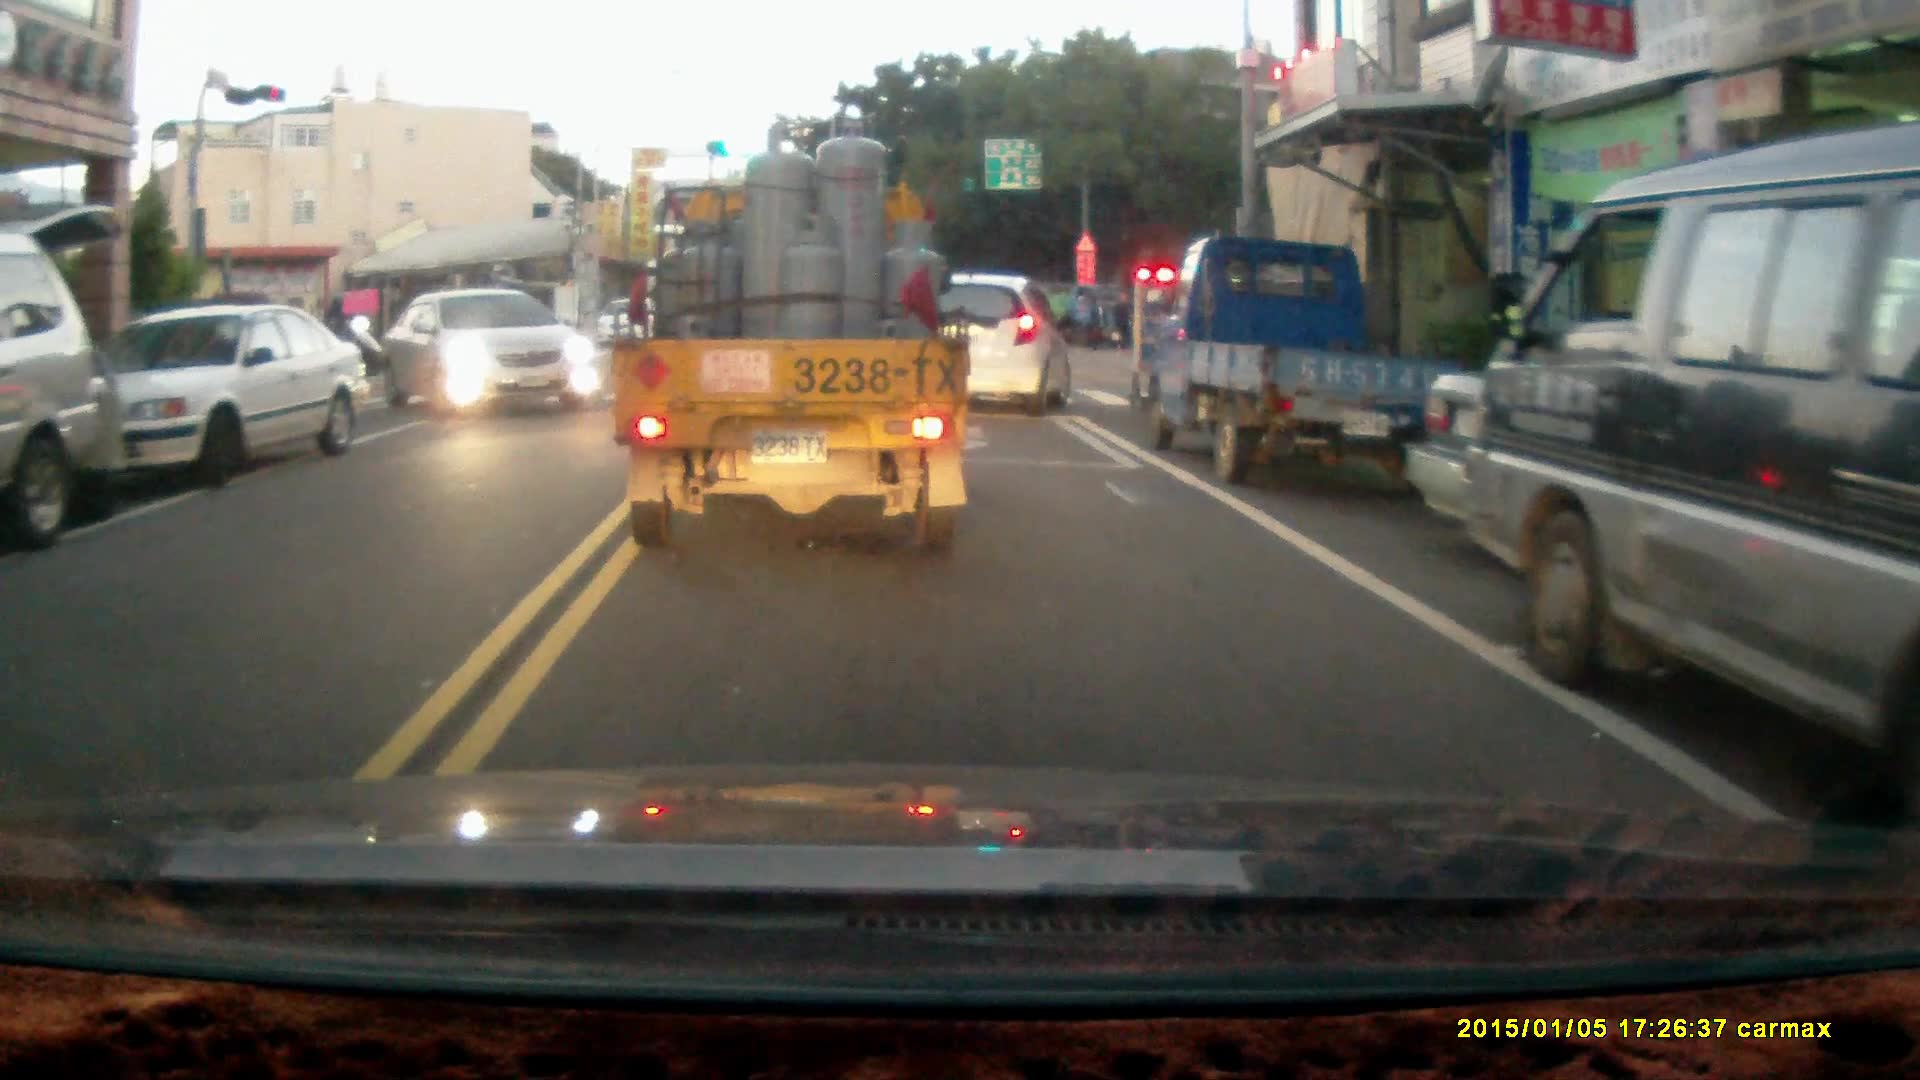rider: (302, 294, 386, 378)
vehicle: (1469, 128, 1920, 832), (611, 117, 976, 556), (1142, 235, 1450, 493), (53, 304, 379, 487), (1, 225, 119, 552), (385, 288, 606, 414), (938, 268, 1073, 409)
